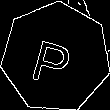P_N: (31, 28, 80, 87)
